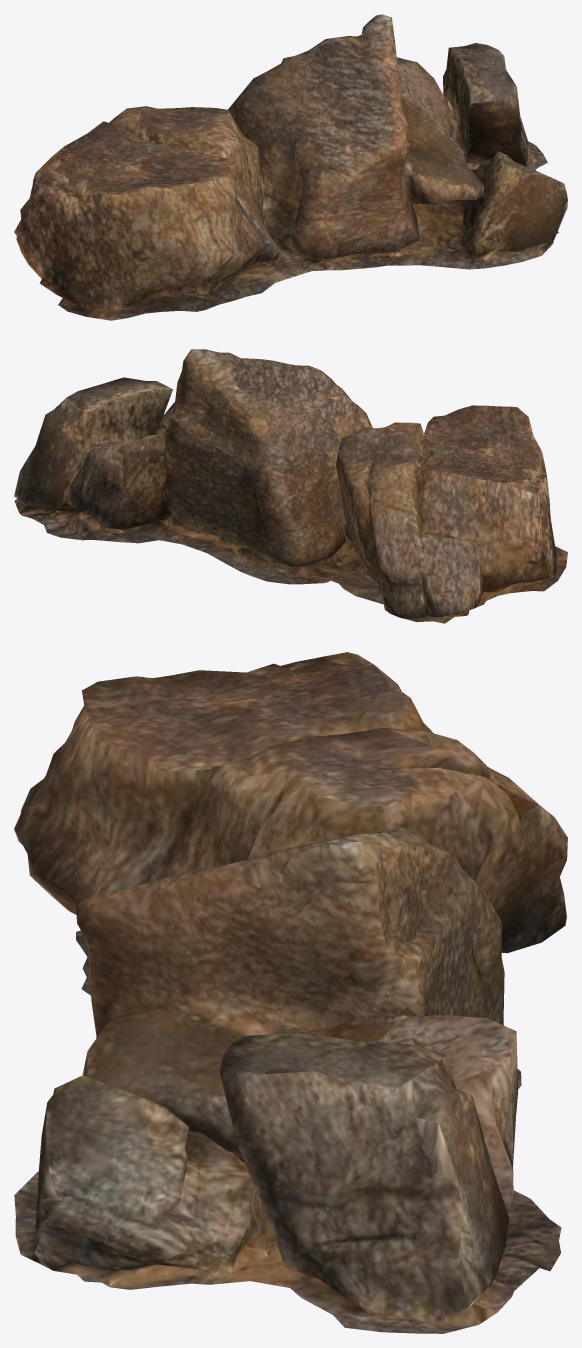
The model's file is boulder_02.glb.
3 renders of one model, top to bottom at view 1: azimuth 30°, elevation 25°; view 2: azimuth 150°, elevation 25°; view 3: azimuth 270°, elevation 25°, orthographic. The views are drawn at different scales.
Visible parts, largest first — view 1: boulder_02; view 2: boulder_02; view 3: boulder_02.
Part boxes in pixels (x1,y1,x2,y2): boulder_02: [14, 14, 567, 320]; boulder_02: [14, 349, 567, 623]; boulder_02: [14, 652, 567, 1333].
Size of the model in its own units: 3.18 by 1.11 by 1.55.
Materials: 1 (1 with a texture image).
